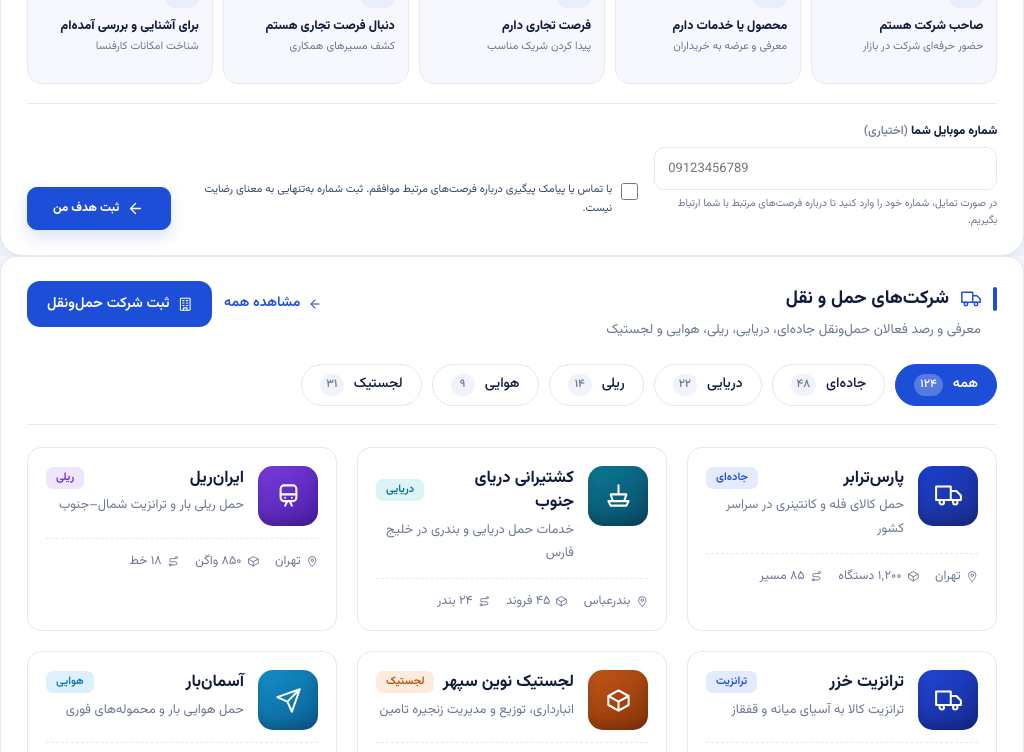
it: HomePage (mock API) › filters transport companies by tab
This screenshot has width=1024, height=752.
(page scrolled)
Click the tab "دریایی ۲۲" at (708, 385), box [654, 364, 762, 406]
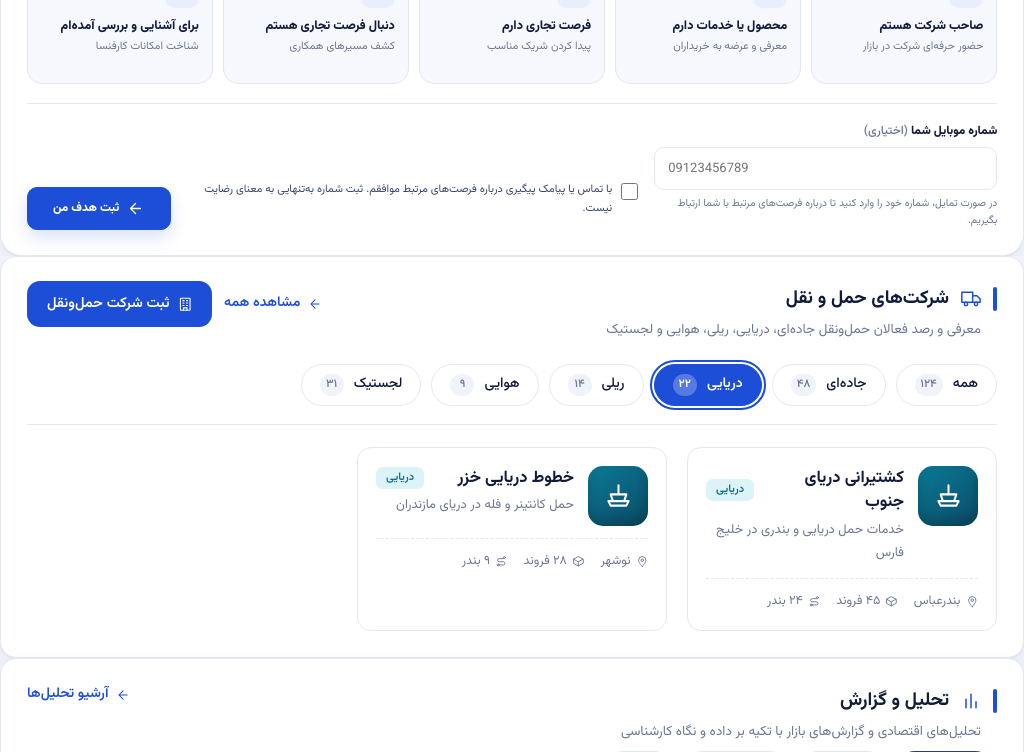
Check: the tab "دریایی ۲۲" is selected, box [654, 364, 762, 406]
